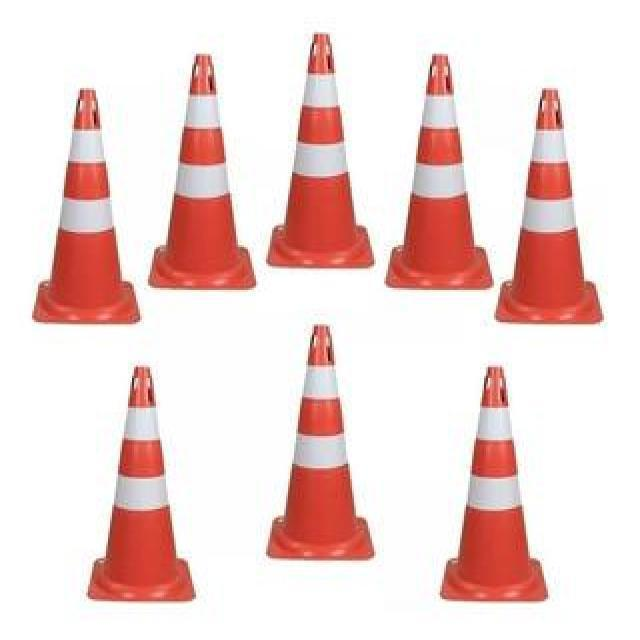traffic cone: (385, 50, 494, 291), (495, 84, 604, 325), (32, 85, 141, 325), (149, 50, 257, 291), (87, 365, 196, 603), (440, 363, 548, 603), (267, 322, 375, 561), (267, 31, 375, 270)
